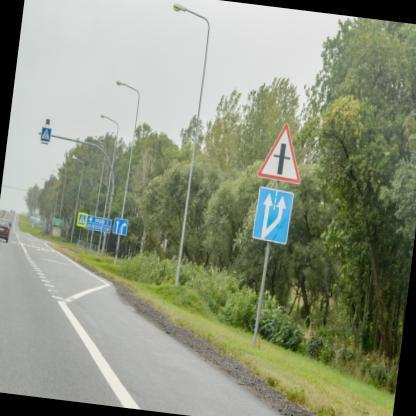road_sign: (259, 123, 300, 182), (253, 187, 293, 244), (113, 218, 129, 236), (77, 212, 88, 227), (41, 127, 51, 142)
